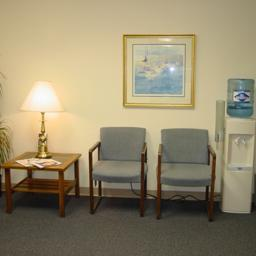Otro Obstaculo: (218, 75, 254, 218)
